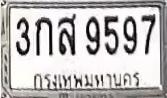3: (15, 16, 30, 55)
5: (103, 15, 118, 54)
7: (140, 14, 156, 54)
9: (122, 15, 137, 54), (85, 15, 99, 54)
A01: (34, 16, 52, 55)
A40: (57, 13, 75, 54)
BKK: (30, 69, 141, 90)
